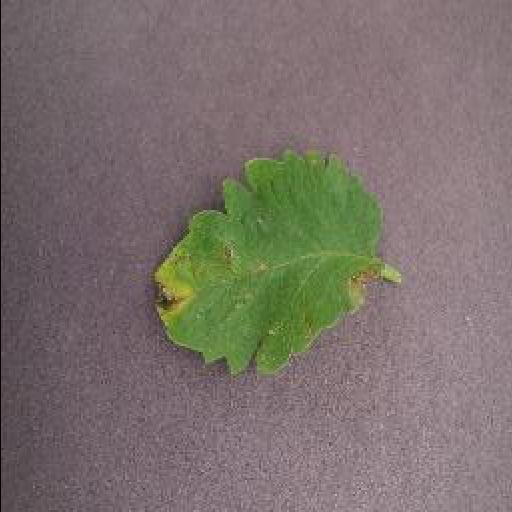disease_tomato: (144, 142, 382, 374)
